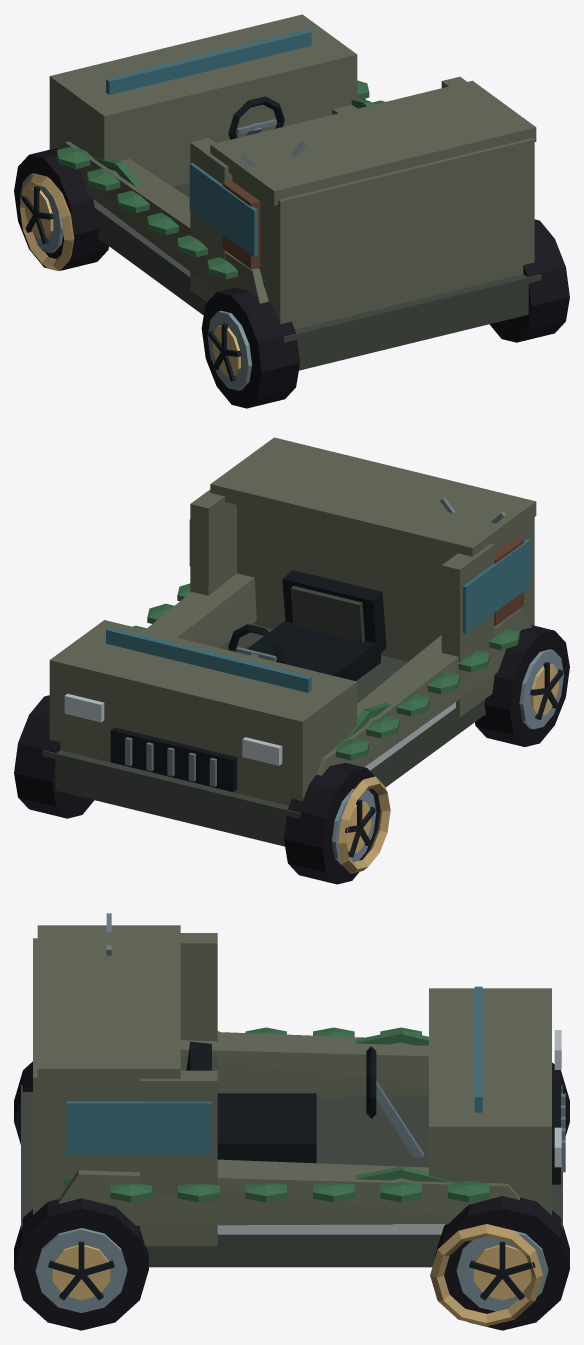
Rendered from kart.glb.
The picture shows the model from 3 angles, top to bottom: view 1: azimuth 30°, elevation 25°; view 2: azimuth 150°, elevation 25°; view 3: azimuth 270°, elevation 25°; orthographic projection. The views are drawn at different scales.
Parts seen in each view (by area): view 1: identity-van-van-utility-body, wheel-rear-left, wheel-front-left, wheel-rear-right, identity-van-motif-vines, identity-van-motif-neon, identity-van-motif-television, identity-van-driver-cockpit; view 2: identity-van-van-utility-body, identity-van-driver-cockpit, wheel-front-left, wheel-rear-left, wheel-front-right, identity-van-motif-vines, identity-van-motif-neon, identity-van-motif-television; view 3: identity-van-van-utility-body, wheel-rear-right, wheel-front-right, identity-van-driver-cockpit, identity-van-motif-vines, identity-van-motif-neon, wheel-rear-left.
Boxes of the visible parts, bbox=[...] form: identity-van-van-utility-body: bbox=[49, 14, 541, 370]; wheel-rear-left: bbox=[201, 287, 299, 408]; wheel-front-left: bbox=[14, 148, 108, 270]; wheel-rear-right: bbox=[489, 219, 569, 342]; identity-van-motif-vines: bbox=[57, 80, 385, 288]; identity-van-motif-neon: bbox=[20, 173, 190, 276]; identity-van-motif-television: bbox=[222, 141, 306, 269]; identity-van-driver-cockpit: bbox=[228, 96, 284, 139]; identity-van-van-utility-body: bbox=[42, 437, 536, 846]; identity-van-driver-cockpit: bbox=[228, 570, 386, 681]; wheel-front-left: bbox=[284, 763, 380, 884]; wheel-rear-left: bbox=[475, 625, 569, 746]; wheel-front-right: bbox=[14, 695, 94, 818]; identity-van-motif-vines: bbox=[133, 583, 519, 760]; identity-van-motif-neon: bbox=[338, 702, 455, 873]; identity-van-motif-television: bbox=[440, 497, 523, 626]; identity-van-van-utility-body: bbox=[21, 925, 565, 1267]; wheel-rear-right: bbox=[14, 1198, 148, 1330]; wheel-front-right: bbox=[435, 1196, 569, 1330]; identity-van-driver-cockpit: bbox=[186, 1041, 423, 1163]; identity-van-motif-vines: bbox=[63, 1027, 489, 1202]; identity-van-motif-neon: bbox=[217, 1224, 542, 1326]; wheel-rear-left: bbox=[14, 1061, 32, 1144].
Size of the model in its own units: 2.13 by 1.46 by 2.8.
